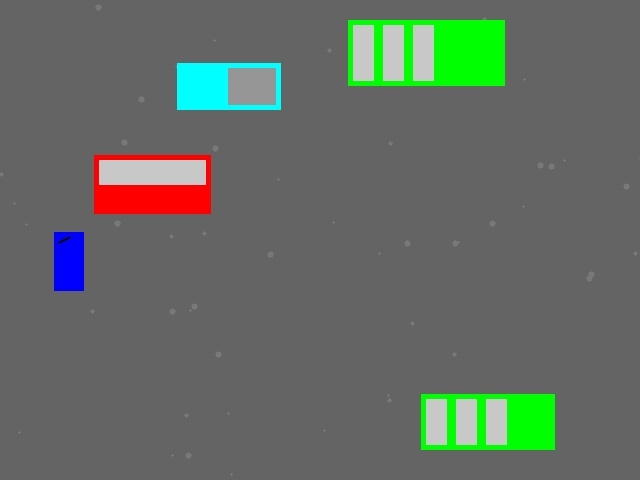bus: (348, 20, 504, 85), (421, 394, 554, 449)
car: (94, 155, 210, 213)
motorcycle: (54, 232, 83, 290)
truck: (177, 63, 280, 109)
